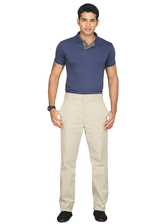clothoes: (46, 88, 115, 213), (48, 31, 118, 99)
shoes: (54, 211, 77, 224), (92, 208, 110, 223)
watch: (43, 102, 60, 111)
